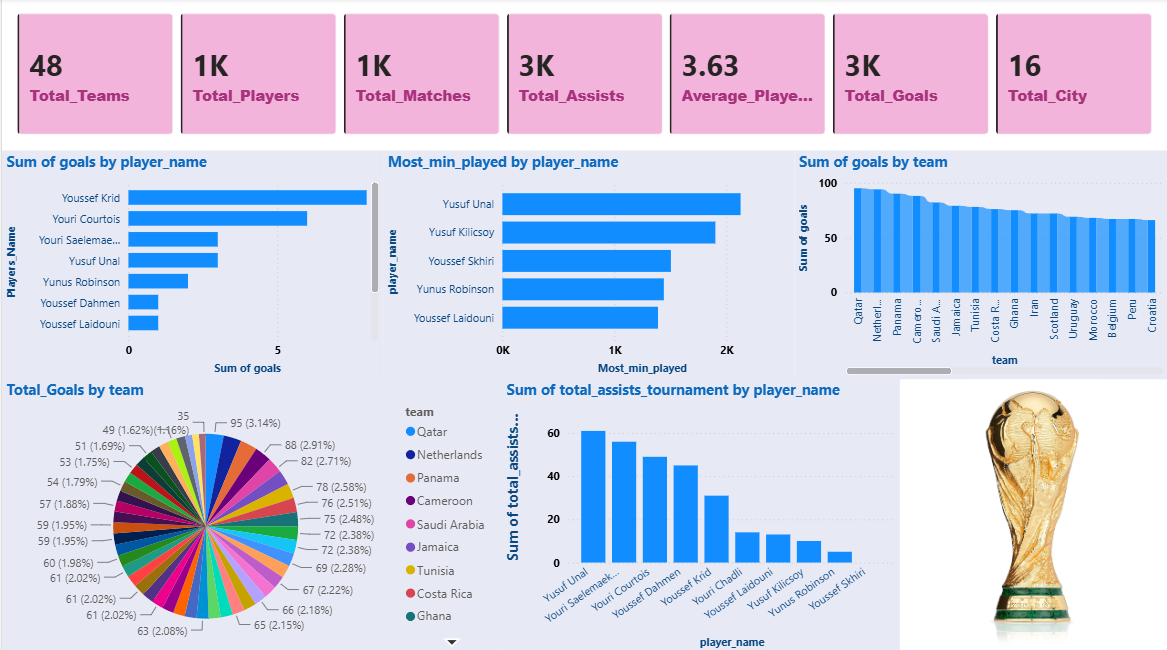

Layout of this report page (visuals, bound fields, positions):
{"tool":"powerbi","page":{"name":"Tournament Overview","canvas":[1280,720],"ordinal":0},"visuals":[{"type":"cardVisual","fields":{"Data":["fifa_world_cup_2026_player_perf.Total_Teams","fifa_world_cup_2026_player_perf.Total_Players","fifa_world_cup_2026_player_perf.Total_Matches","fifa_world_cup_2026_player_perf.Total_Assists","fifa_world_cup_2026_player_perf.Average_Player_Rating","fifa_world_cup_2026_player_perf.Total_Goals","fifa_world_cup_2026_player_perf.Total_City"]},"box":[0,0,1280,167.1],"z":0},{"type":"pieChart","fields":{"Category":["fifa_world_cup_2026_player_perf.team"],"Y":["fifa_world_cup_2026_player_perf.Total_Goals"]},"box":[0,418.6,548.6,301.4],"z":1000},{"type":"ribbonChart","fields":{"Category":["fifa_world_cup_2026_player_perf.team"],"Y":["Sum(fifa_world_cup_2026_player_perf.goals)"]},"box":[870,167.4,410.3,251.1],"z":3000},{"type":"clusteredBarChart","fields":{"Category":["fifa_world_cup_2026_player_perf.player_name"],"Y":["Sum(fifa_world_cup_2026_player_perf.goals)"]},"box":[0,167.4,418.5,251.1],"z":4000},{"type":"clusteredColumnChart","fields":{"Y":["Sum(fifa_world_cup_2026_player_perf.total_assists_tournament)"],"Category":["fifa_world_cup_2026_player_perf.player_name"]},"box":[548.6,418.6,437.1,301.4],"z":5000},{"type":"barChart","fields":{"Category":["fifa_world_cup_2026_player_perf.player_name"],"Y":["fifa_world_cup_2026_player_perf.Most_min_played"]},"box":[418.5,167.4,451.5,251.1],"z":6000},{"type":"image","box":[986,419,294,301],"z":7000}]}

Visuals, with their boxes in screenshot pixels (x1, y1, x2, y2), scaled from the page's 1280x720 canvas onto the 1167x650 screenshot:
cardVisual - fifa_world_cup_2026_player_perf.Total_Teams x fifa_world_cup_2026_player_perf.Total_Players: bbox(0, 0, 1166, 151)
pieChart - fifa_world_cup_2026_player_perf.team x fifa_world_cup_2026_player_perf.Total_Goals: bbox(0, 378, 500, 649)
ribbonChart - fifa_world_cup_2026_player_perf.team x Sum(fifa_world_cup_2026_player_perf.goals): bbox(793, 151, 1166, 378)
clusteredBarChart - fifa_world_cup_2026_player_perf.player_name x Sum(fifa_world_cup_2026_player_perf.goals): bbox(0, 151, 382, 378)
clusteredColumnChart - Sum(fifa_world_cup_2026_player_perf.total_assists_tournament) x fifa_world_cup_2026_player_perf.player_name: bbox(500, 378, 899, 649)
barChart - fifa_world_cup_2026_player_perf.player_name x fifa_world_cup_2026_player_perf.Most_min_played: bbox(382, 151, 793, 378)
image: bbox(899, 378, 1166, 649)
